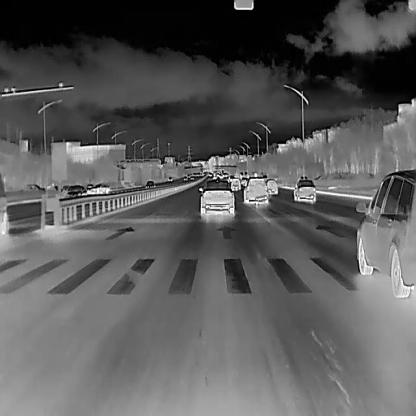car: (354, 168, 416, 297), (198, 176, 234, 218), (241, 176, 269, 205), (291, 177, 316, 202), (63, 183, 85, 201), (91, 181, 110, 195), (264, 177, 278, 194), (230, 178, 241, 192), (144, 178, 153, 187), (166, 175, 173, 181), (181, 174, 188, 180), (188, 174, 193, 179)
